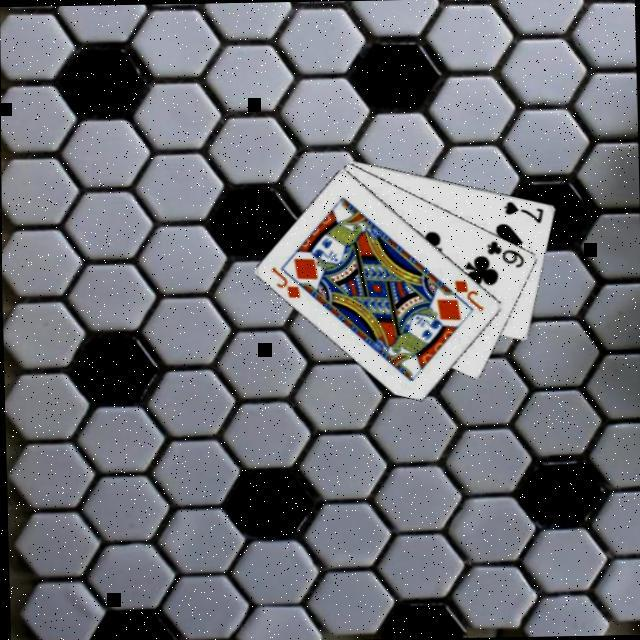6C: (482, 238, 525, 272)
7S: (499, 198, 544, 227)
JD: (450, 277, 485, 316), (267, 263, 302, 302)
